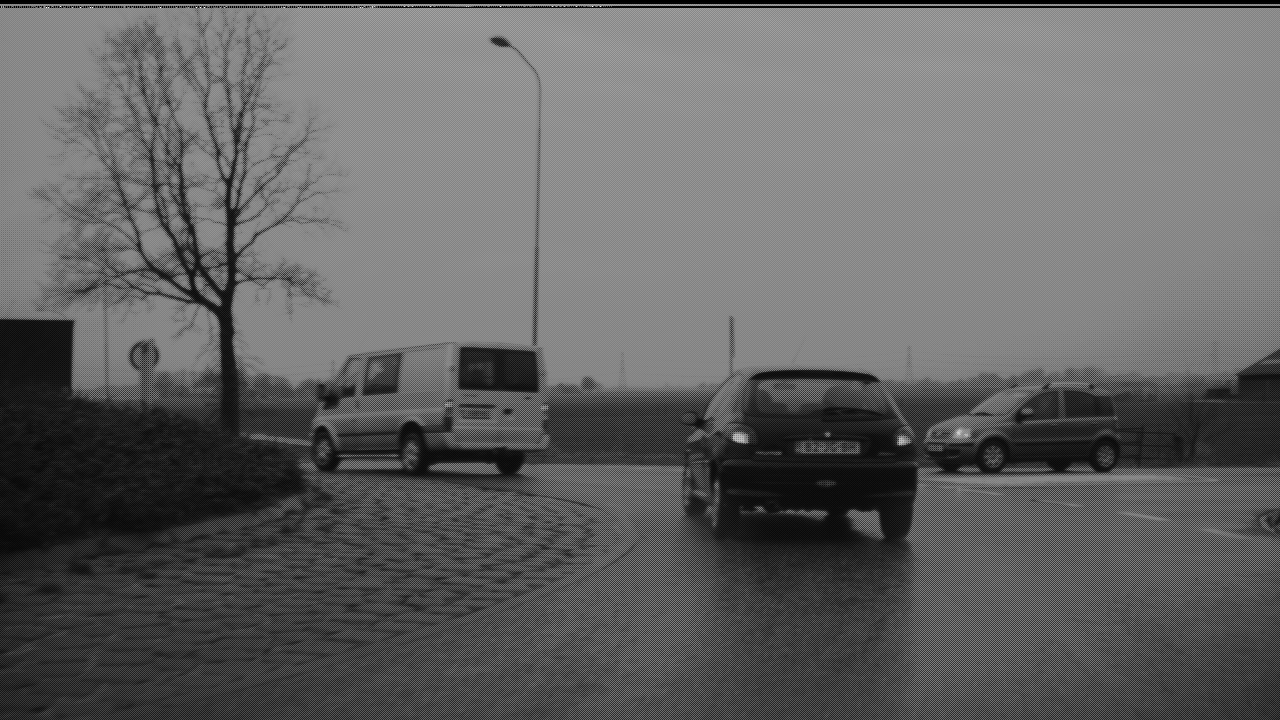pole: (527, 64, 544, 341)
